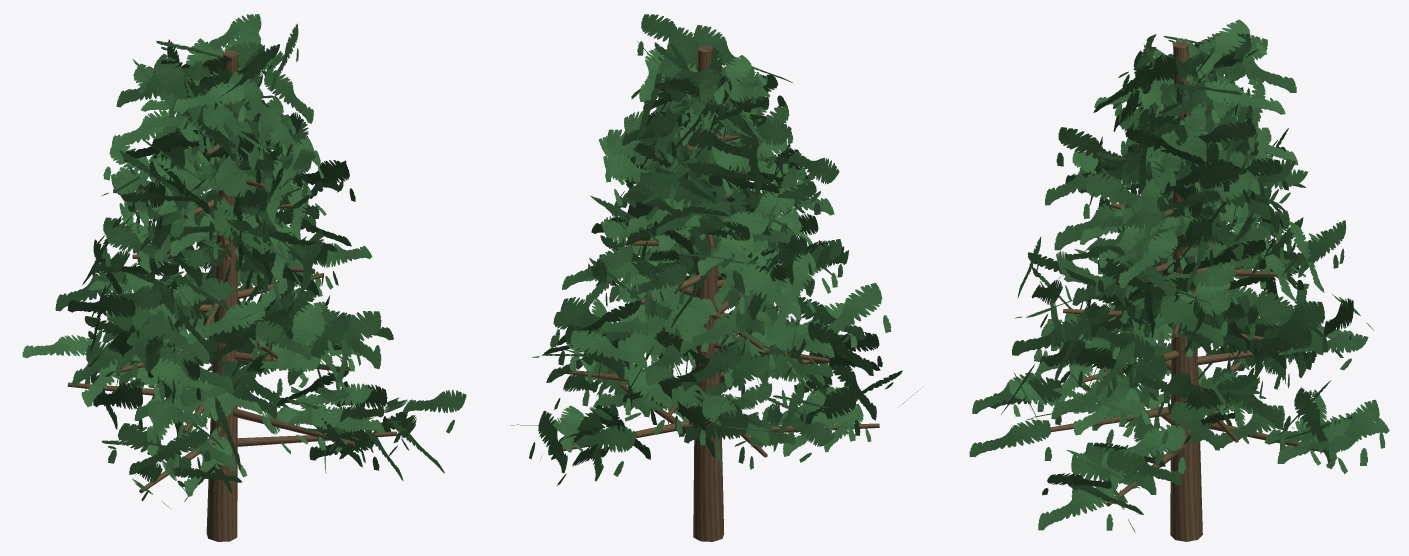
3 renders of one model, left to right at view 1: azimuth 30°, elevation 25°; view 2: azimuth 150°, elevation 25°; view 3: azimuth 270°, elevation 25°, orthographic. The views are drawn at different scales.
Parts seen in each view (by area): view 1: pine-needle, pine-bark; view 2: pine-needle, pine-bark; view 3: pine-needle, pine-bark.
Boxes of the visible parts, bbox=[...] form: pine-needle: bbox=[22, 14, 466, 508]; pine-bark: bbox=[67, 50, 397, 541]; pine-needle: bbox=[510, 14, 918, 485]; pine-bark: bbox=[561, 46, 879, 541]; pine-needle: bbox=[969, 19, 1389, 532]; pine-bark: bbox=[1051, 41, 1324, 541].
Size of the model in its own units: 7.49 by 10.38 by 7.99.
Materials: 2 (2 with a texture image).
